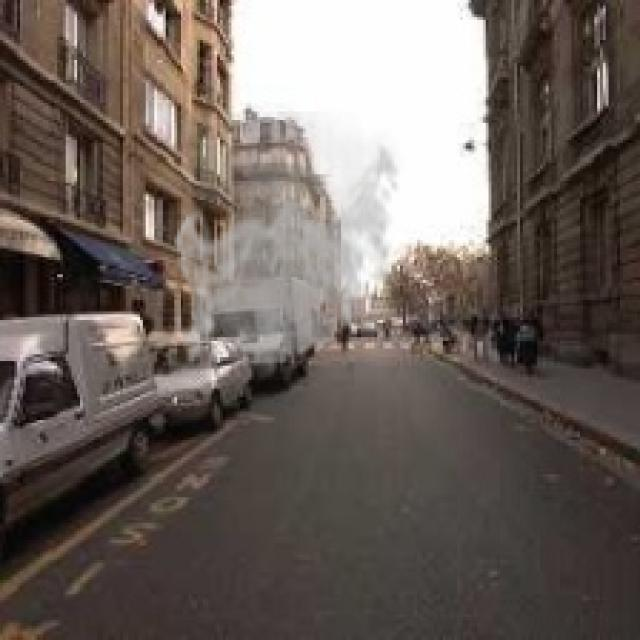smoke: (168, 111, 406, 383)
